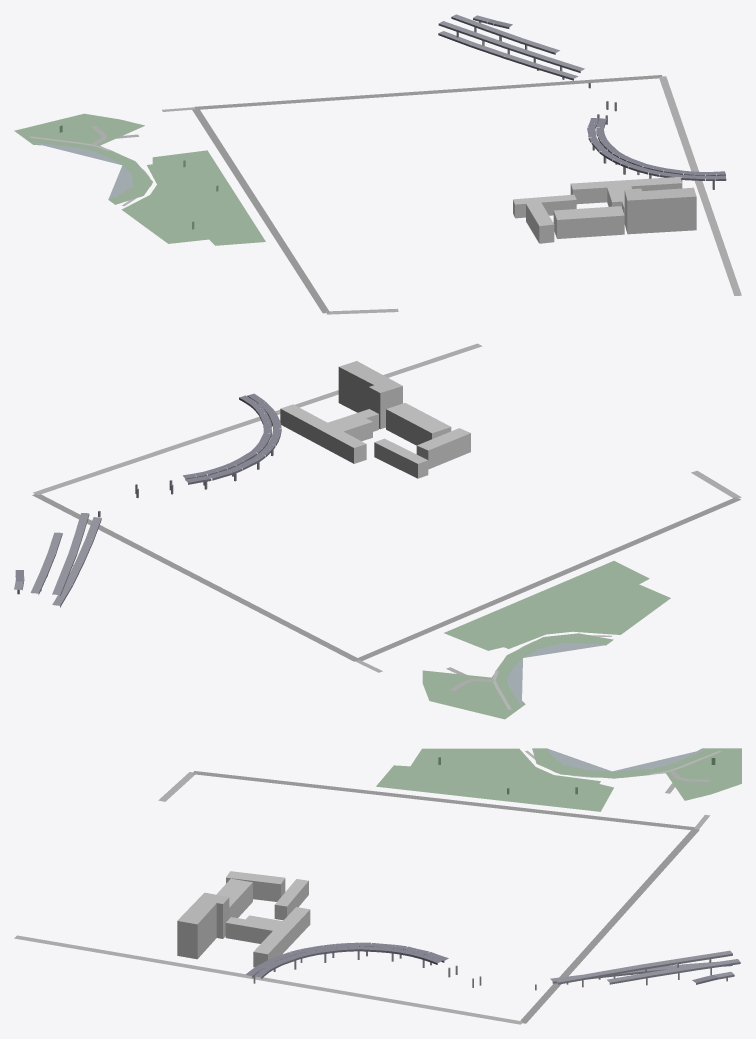
The picture shows the model from 3 angles, top to bottom: view 1: azimuth 30°, elevation 25°; view 2: azimuth 150°, elevation 25°; view 3: azimuth 270°, elevation 25°; orthographic projection. The views are drawn at different scales.
Size of the model in its own units: 572 by 36.25 by 638.
